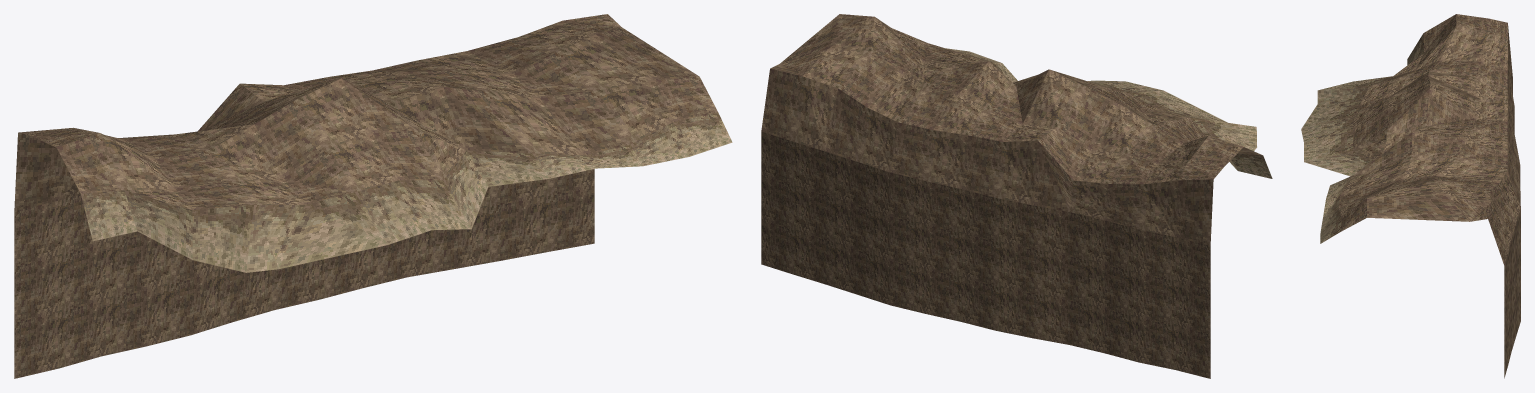
The model's file is lodorthcoast07b.obj.
The picture shows the model from 3 angles, left to right: view 1: azimuth 30°, elevation 25°; view 2: azimuth 150°, elevation 25°; view 3: azimuth 270°, elevation 25°; orthographic projection. The views are drawn at different scales.
Visible parts, largest first — view 1: lodorthcoast07b; view 2: lodorthcoast07b; view 3: lodorthcoast07b.
Boxes of the visible parts, left/top/right/bottom form: lodorthcoast07b: left=14, top=14, right=732, bottom=378; lodorthcoast07b: left=761, top=14, right=1272, bottom=378; lodorthcoast07b: left=1301, top=14, right=1520, bottom=378.
Size of the model in its own units: 252 by 117 by 123.
Materials: 2 (2 with a texture image).
